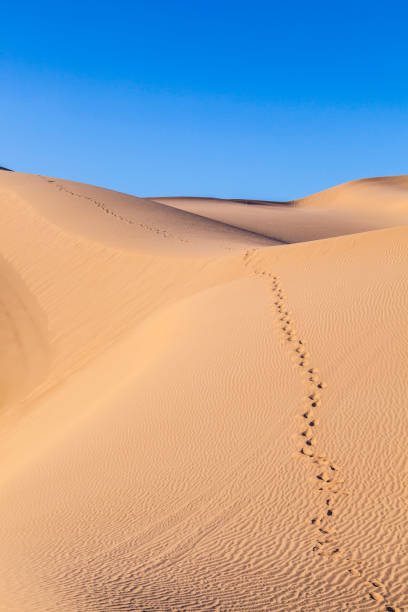human_foot_print: (252, 267, 365, 577), (39, 175, 187, 241)
